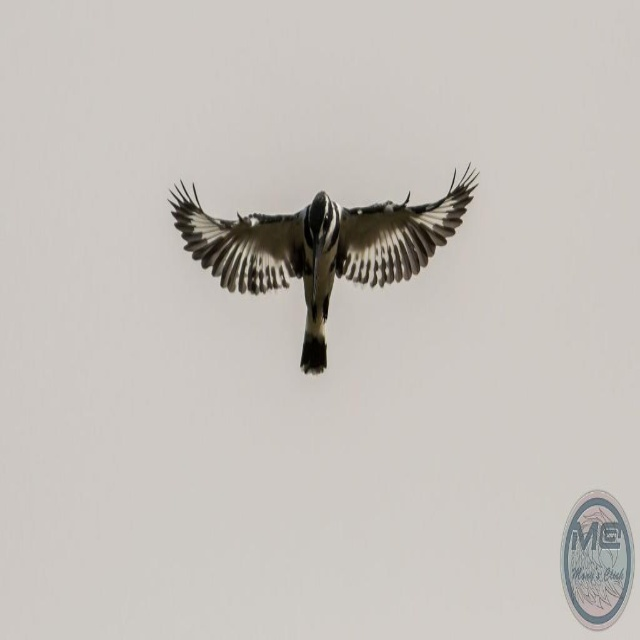Eagle: (166, 174, 478, 382)
